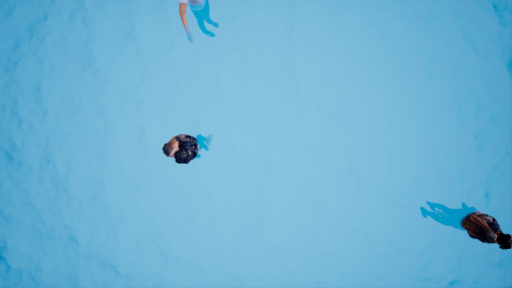person: (417, 197, 512, 252), (162, 129, 217, 166)
